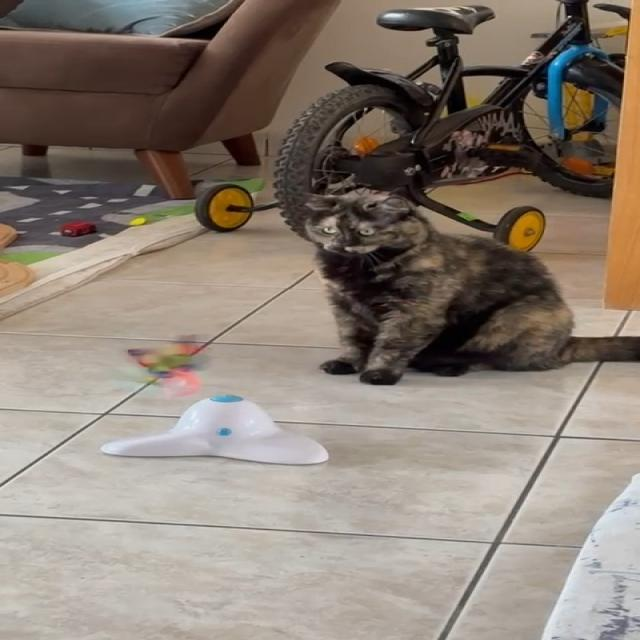authorized: (294, 186, 638, 385)
